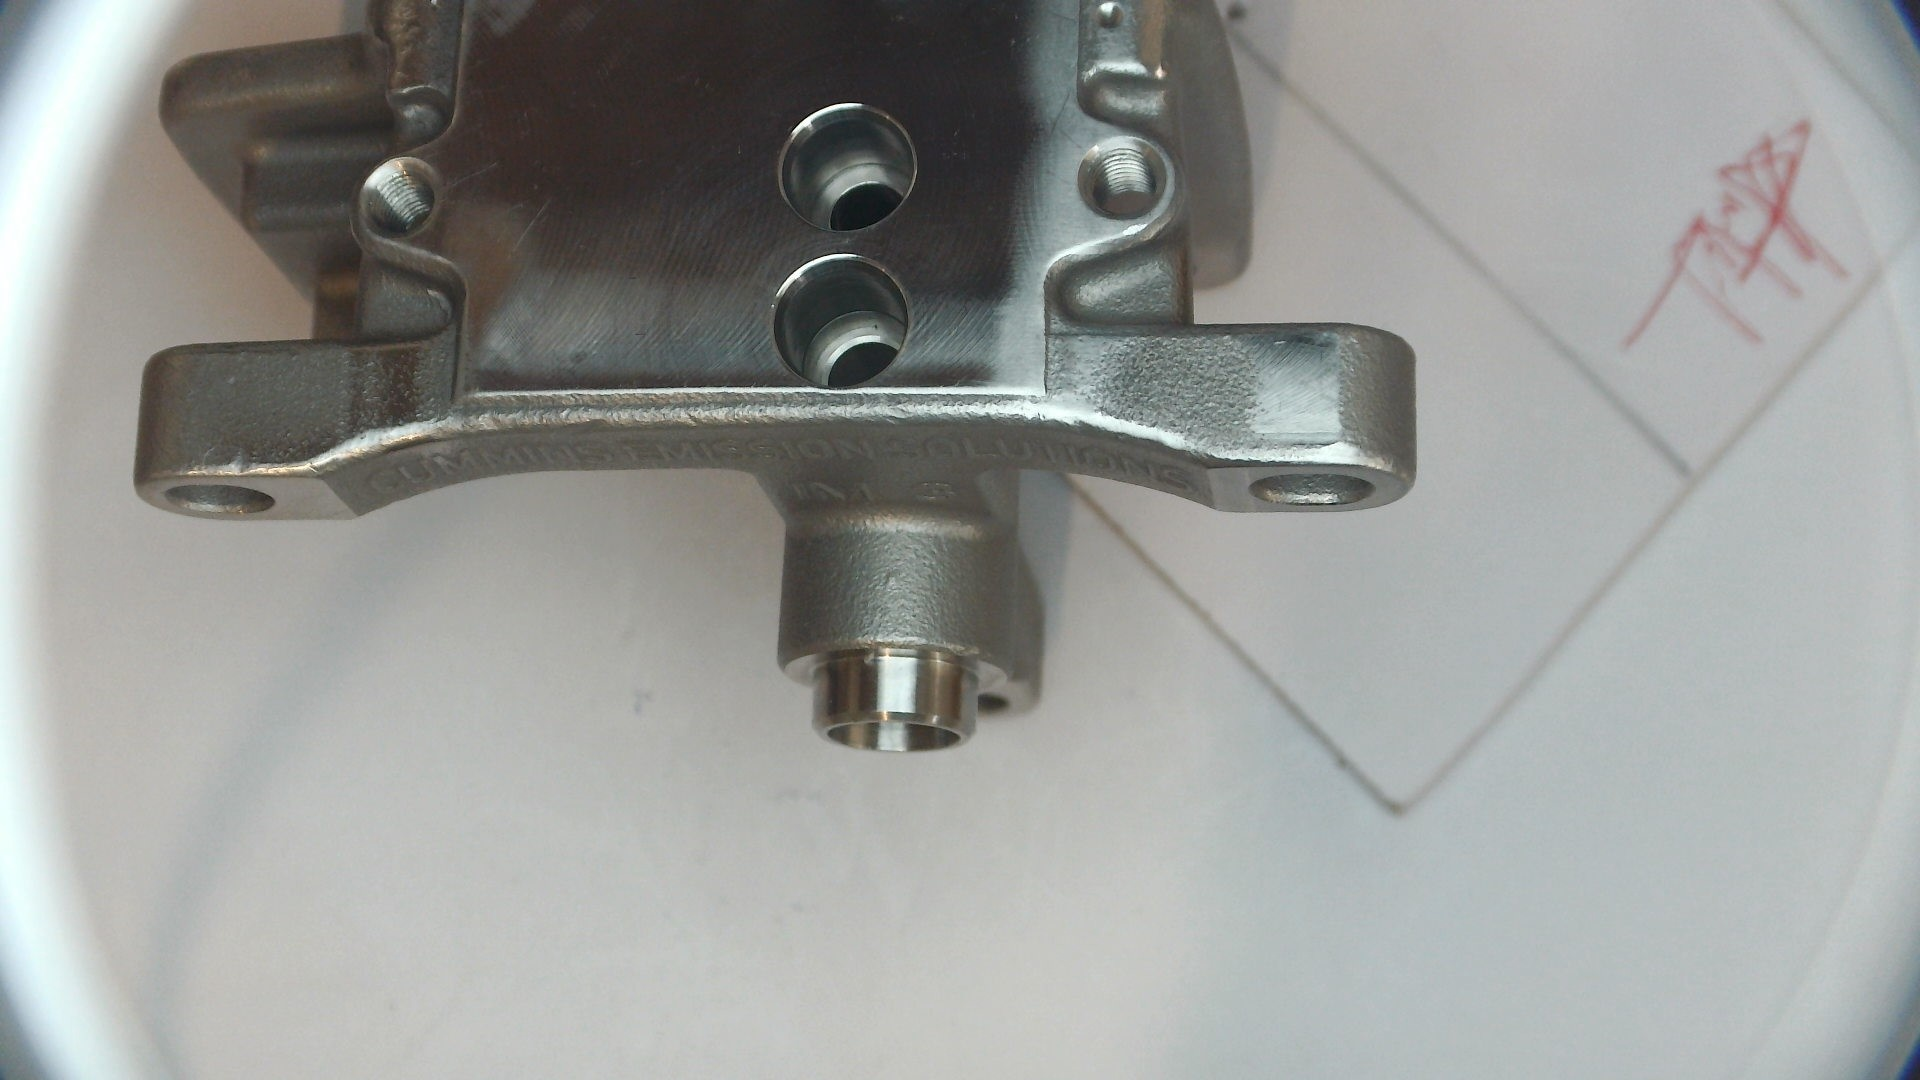thread_absence: (767, 248, 915, 392), (773, 98, 920, 237)
thread_presence: (364, 167, 436, 237), (1083, 142, 1160, 199)
